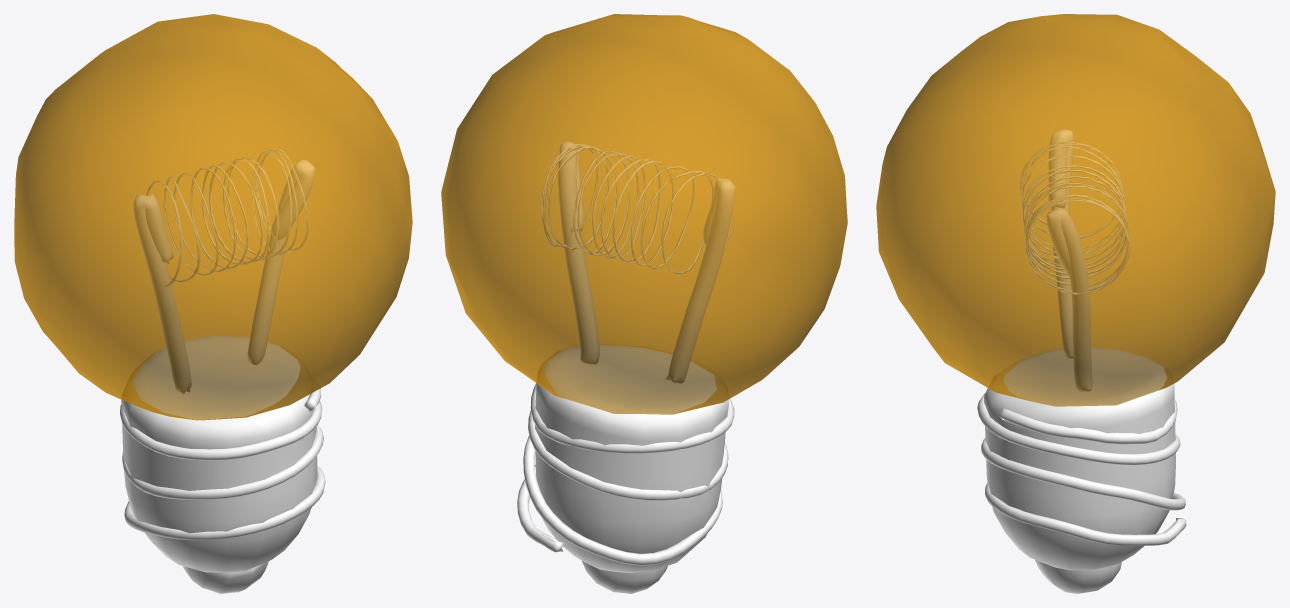
The model's file is bulb-light-on2.glb.
3 renders of one model, left to right at view 1: azimuth 30°, elevation 25°; view 2: azimuth 150°, elevation 25°; view 3: azimuth 270°, elevation 25°, orthographic. The views are drawn at different scales.
Parts seen in each view (by area): view 1: turn_on, Retopo_Object_17.001, Retopo_Object_19.002; view 2: turn_on, Retopo_Object_17.001, Retopo_Object_19.002; view 3: turn_on, Retopo_Object_17.001, Retopo_Object_19.002.
Part boxes in pixels (left/top/right/bottom): turn_on: left=14, top=14, right=412, bottom=420; Retopo_Object_17.001: left=121, top=336, right=317, bottom=593; Retopo_Object_19.002: left=120, top=148, right=325, bottom=540; turn_on: left=441, top=14, right=847, bottom=414; Retopo_Object_17.001: left=535, top=344, right=728, bottom=593; Retopo_Object_19.002: left=517, top=141, right=734, bottom=565; turn_on: left=876, top=14, right=1275, bottom=406; Retopo_Object_17.001: left=984, top=347, right=1175, bottom=593; Retopo_Object_19.002: left=977, top=129, right=1186, bottom=545.
Size of the model in its own units: 0.2163 by 0.3298 by 0.2163.
